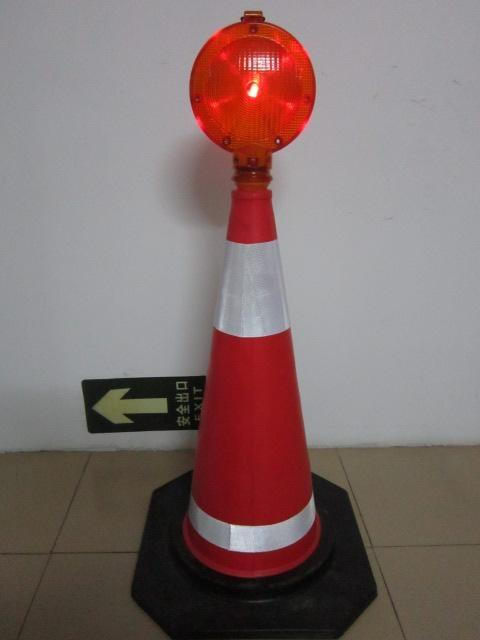cone_barrel: (164, 131, 332, 586)
